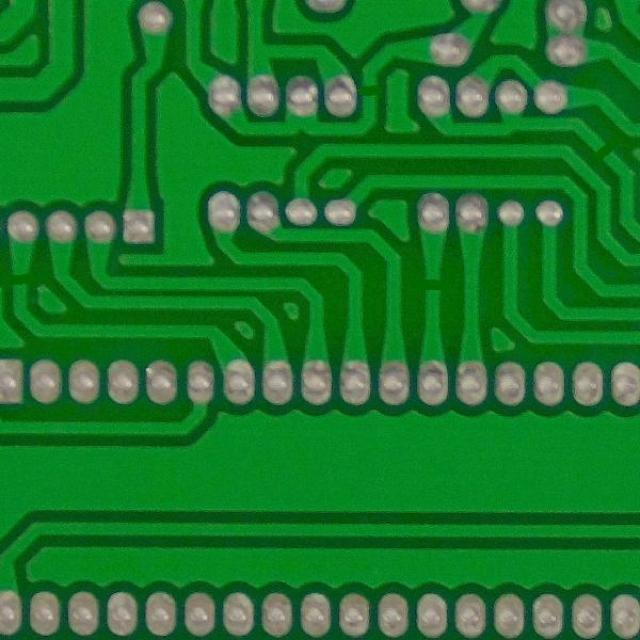open_circuit: (8, 267, 36, 292), (589, 140, 622, 161), (421, 272, 446, 295), (359, 80, 384, 102)
